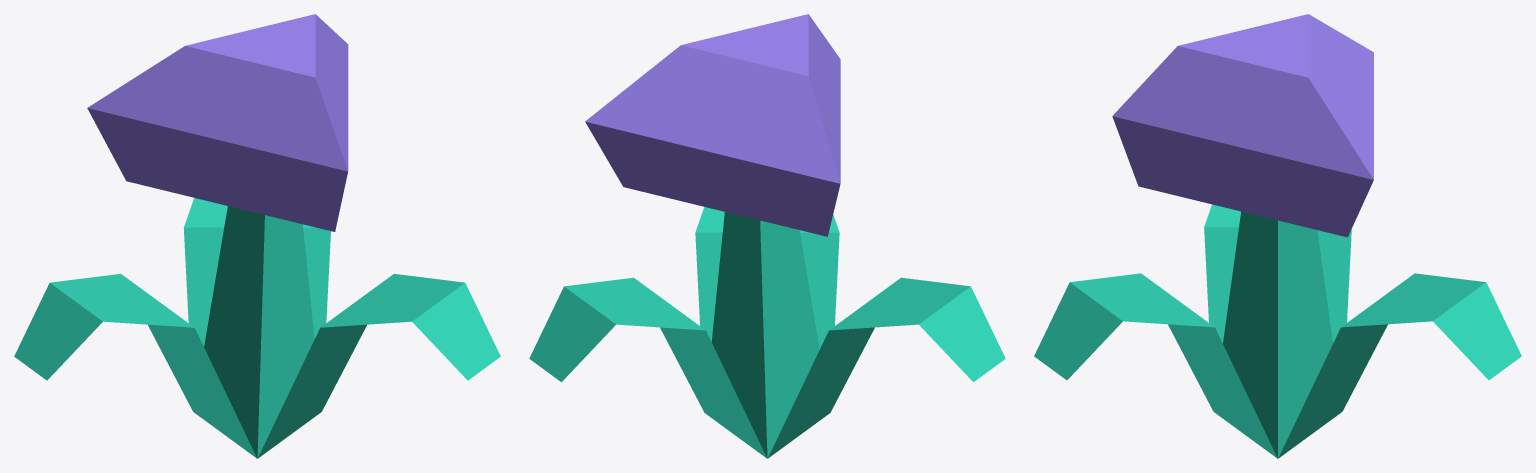
The model's file is flower-purple-b.glb.
3 renders of one model, left to right at view 1: azimuth 30°, elevation 25°; view 2: azimuth 150°, elevation 25°; view 3: azimuth 270°, elevation 25°, orthographic. The views are drawn at different scales.
Parts seen in each view (by area): view 1: flower_purpleB; view 2: flower_purpleB; view 3: flower_purpleB.
Part boxes in pixels (bbox=[...]): flower_purpleB: bbox=[14, 14, 500, 458]; flower_purpleB: bbox=[529, 14, 1005, 458]; flower_purpleB: bbox=[1034, 14, 1521, 458].
Size of the model in its own units: 0.2073 by 0.2085 by 0.2392.
